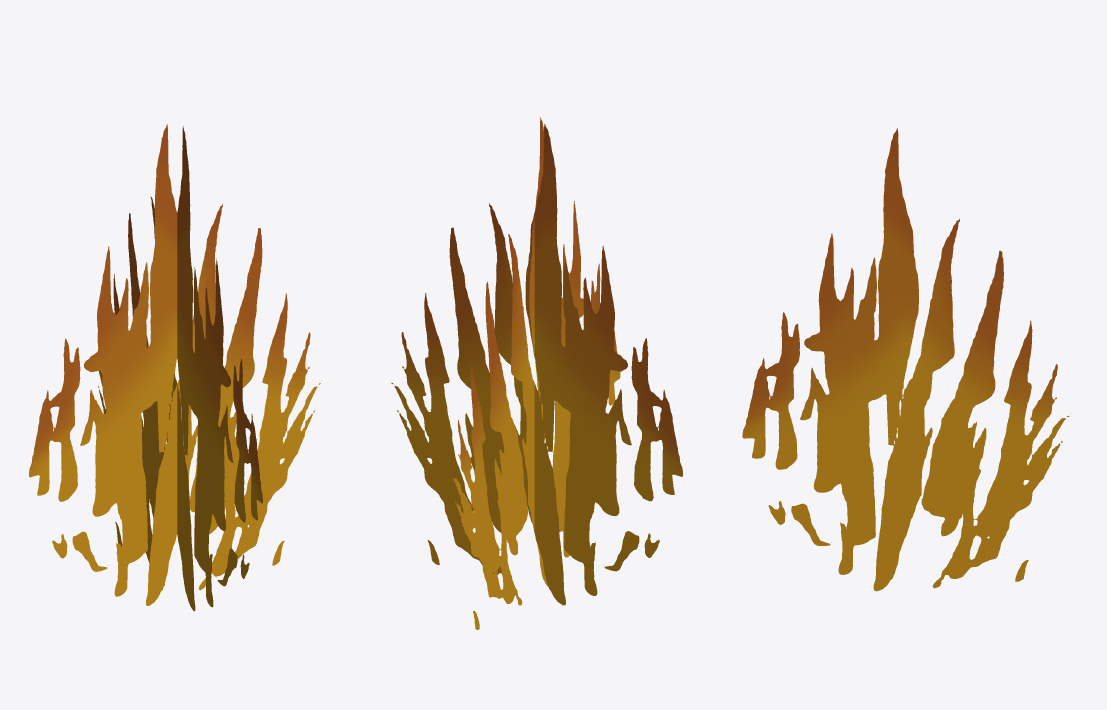
Rendered from WastelandGrass.fbx.
3 views of the same model, side by side, from view 1: azimuth 30°, elevation 25°; view 2: azimuth 150°, elevation 25°; view 3: azimuth 270°, elevation 25° (orthographic). The views are drawn at different scales.
Visible parts, largest first — view 1: Пустыш трава; view 2: Пустыш трава; view 3: Пустыш трава.
Part boxes in pixels (x1,y1,x2,y2): Пустыш трава: (29,124,320,611); Пустыш трава: (391,117,682,629); Пустыш трава: (742,128,1070,591).
Bounding box in the file's own units: 50.44 × 80.36 × 50.44.
